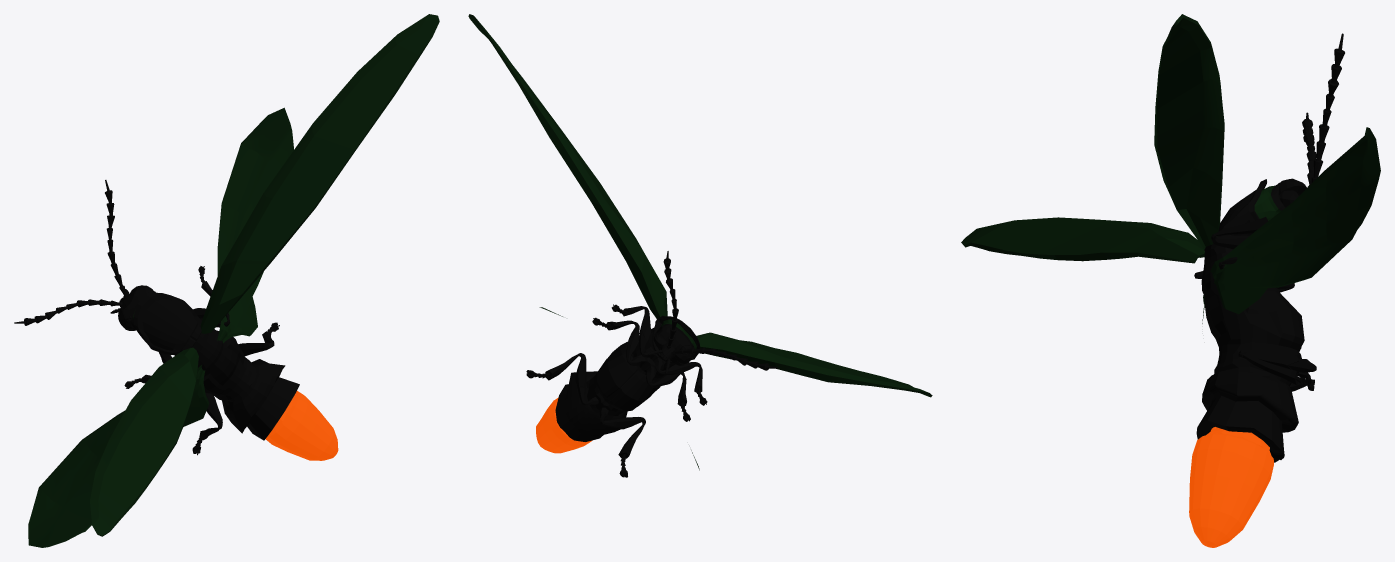
File: Firefly 1.glb
3 renders of one model, left to right at view 1: azimuth 30°, elevation 25°; view 2: azimuth 150°, elevation 25°; view 3: azimuth 270°, elevation 25°, orthographic. The views are drawn at different scales.
Visible parts, largest first — view 1: firefly.010, firefly.013, firefly.011, firefly.014, firefly.012; view 2: firefly.010, firefly.013, firefly.011; view 3: firefly.010, firefly.014, firefly.013, firefly.011.
Boxes of the visible parts, <box> form: firefly.010: <box>14,180,338,460</box>; firefly.013: <box>200,14,439,333</box>; firefly.011: <box>90,347,198,536</box>; firefly.014: <box>217,107,293,343</box>; firefly.012: <box>28,365,209,547</box>; firefly.010: <box>526,251,777,477</box>; firefly.013: <box>468,14,667,318</box>; firefly.011: <box>696,332,932,397</box>; firefly.010: <box>1189,33,1344,547</box>; firefly.014: <box>1210,127,1380,314</box>; firefly.013: <box>1154,14,1224,249</box>; firefly.011: <box>961,217,1204,263</box>.
Bounding box in the file's own units: 0.6131 × 0.6473 × 0.386.
